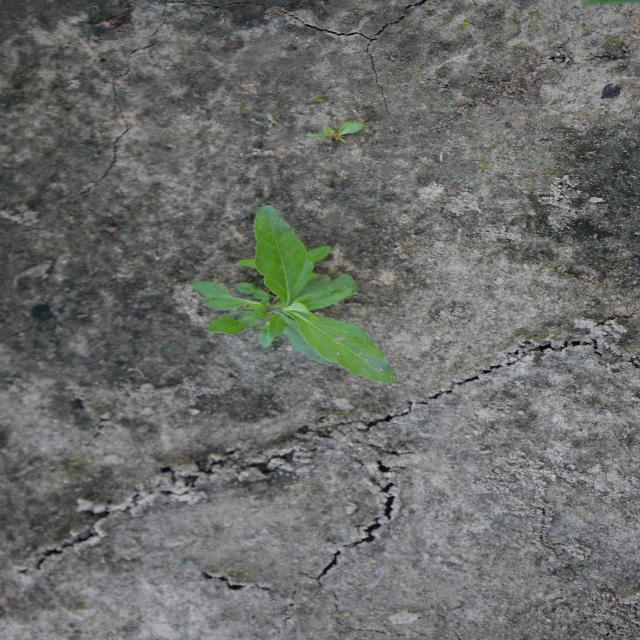Eclipta: (188, 204, 402, 387)
